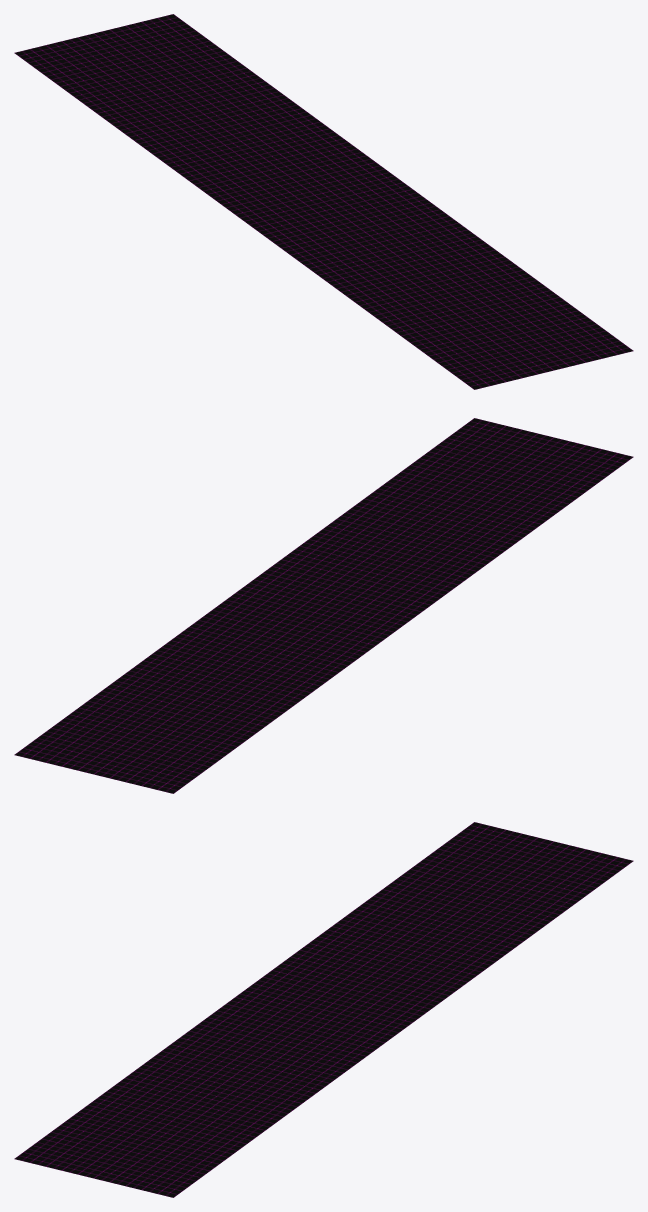
File: ground.obj
3 views of the same model, one above another, from view 1: azimuth 30°, elevation 25°; view 2: azimuth 150°, elevation 25°; view 3: azimuth 330°, elevation 25° (orthographic).
Visible parts, largest first — view 1: Plane001.001; view 2: Plane001.001; view 3: Plane001.001.
Boxes of the visible parts, <box> form: Plane001.001: <box>14,14,633,389</box>; Plane001.001: <box>14,418,633,793</box>; Plane001.001: <box>14,822,633,1197</box>.
Bounding box in the file's own units: 120 × 0.00013 × 600.
Materials: 1 (1 with a texture image).
